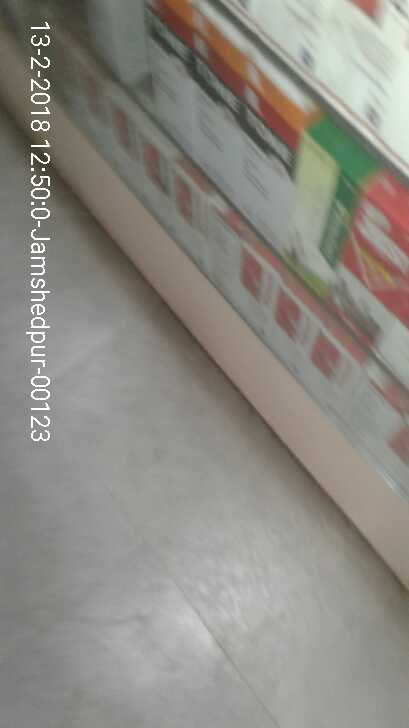reject: (147, 97, 235, 187)
